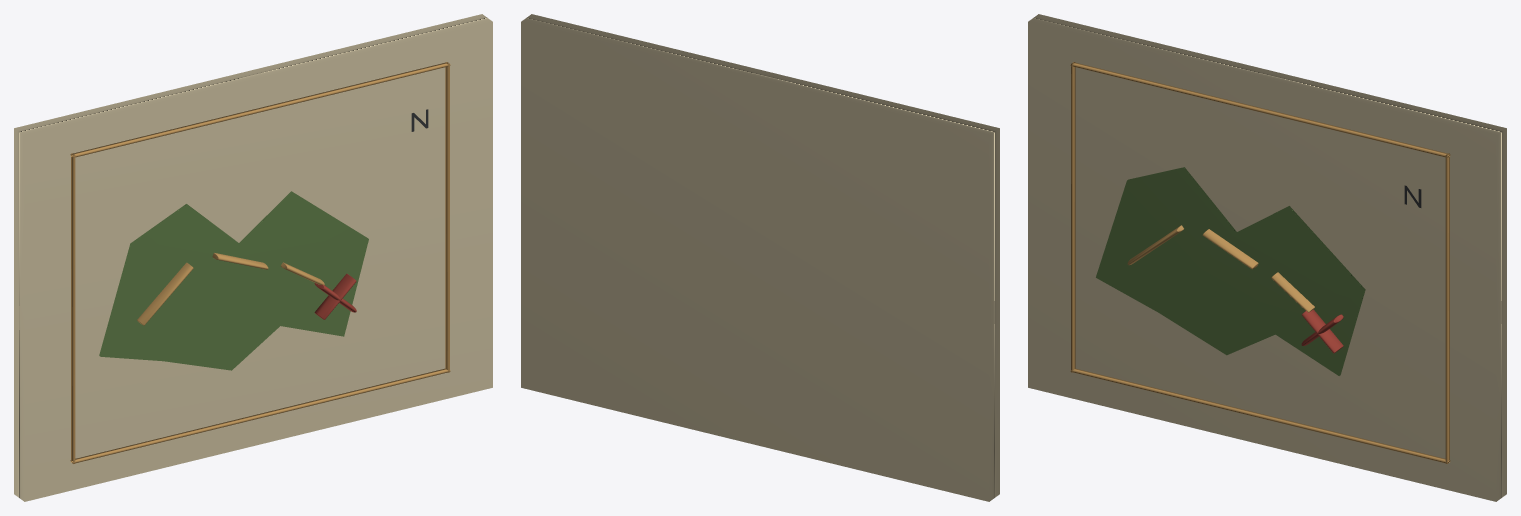
The model's file is P021_treasure_map_rebuilt.glb.
3 views of the same model, side by side, from view 1: azimuth 30°, elevation 25°; view 2: azimuth 150°, elevation 25°; view 3: azimuth 330°, elevation 25° (orthographic).
Parts seen in each view (by area): view 1: paper, green, edge, red; view 2: paper; view 3: paper, green, edge, red.
Part boxes in pixels (bbox=[...]): paper: bbox=[14, 14, 492, 501]; green: bbox=[99, 191, 368, 370]; edge: bbox=[70, 62, 450, 463]; red: bbox=[314, 273, 356, 319]; paper: bbox=[521, 14, 999, 501]; paper: bbox=[1028, 14, 1506, 501]; green: bbox=[1096, 167, 1365, 375]; edge: bbox=[1070, 62, 1450, 463]; red: bbox=[1301, 309, 1343, 353].
Bounding box in the file's own units: 0.3748 × 0.28 × 0.033.
